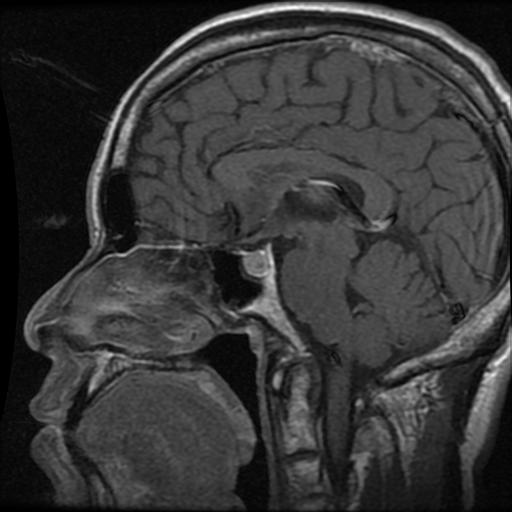Pituirity_tumour: (239, 248, 275, 279)
